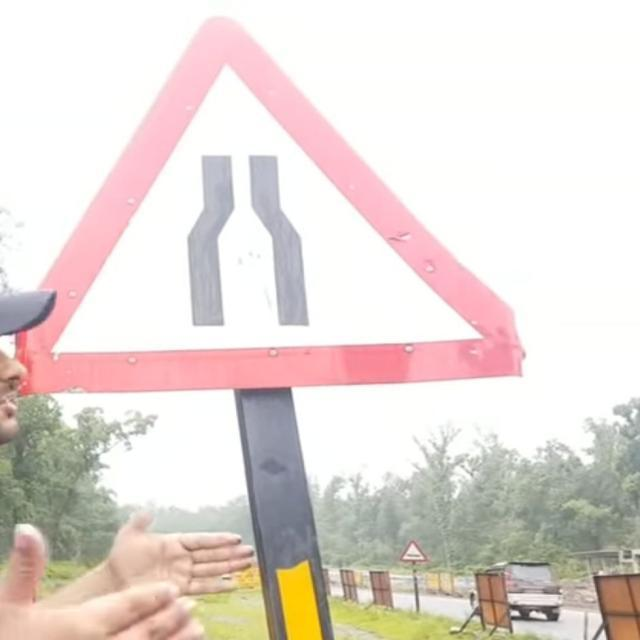narrow road ahead: (17, 20, 542, 409)
